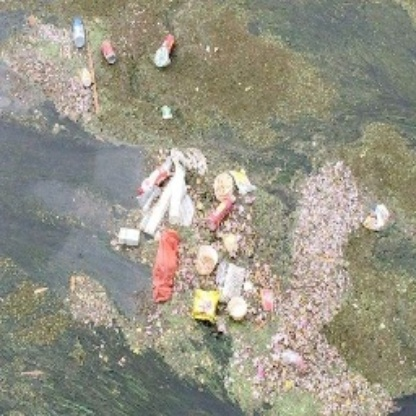bottle: (205, 192, 235, 232), (98, 37, 122, 66), (69, 19, 91, 49)
plastic-bag: (150, 226, 181, 305)
